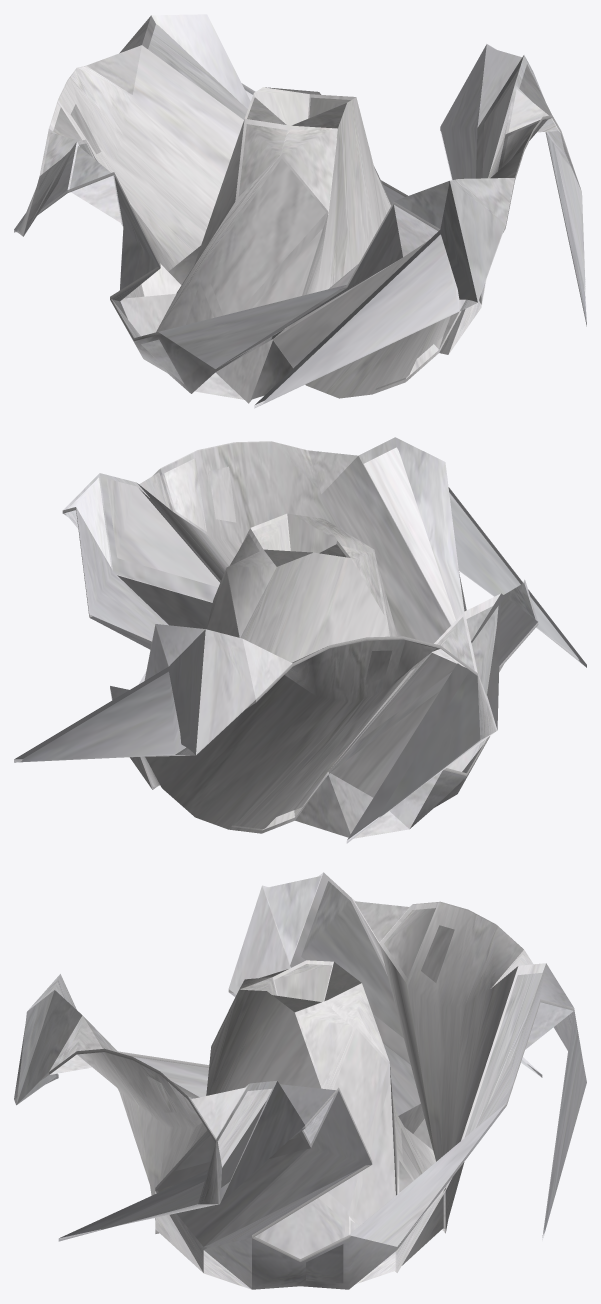
File: TrashPaper.fbx
3 views of the same model, one above another, from view 1: azimuth 30°, elevation 25°; view 2: azimuth 150°, elevation 25°; view 3: azimuth 270°, elevation 25° (orthographic).
Parts seen in each view (by area): view 1: trashPaper; view 2: trashPaper; view 3: trashPaper.
Boxes of the visible parts, x1=… form: trashPaper: x1=14, y1=14, x2=586, y2=408; trashPaper: x1=14, y1=437, x2=586, y2=843; trashPaper: x1=14, y1=872, x2=586, y2=1289.
Bounding box in the file's own units: 15.49 × 7.69 × 16.1.
Materials: 1 (1 with a texture image).
